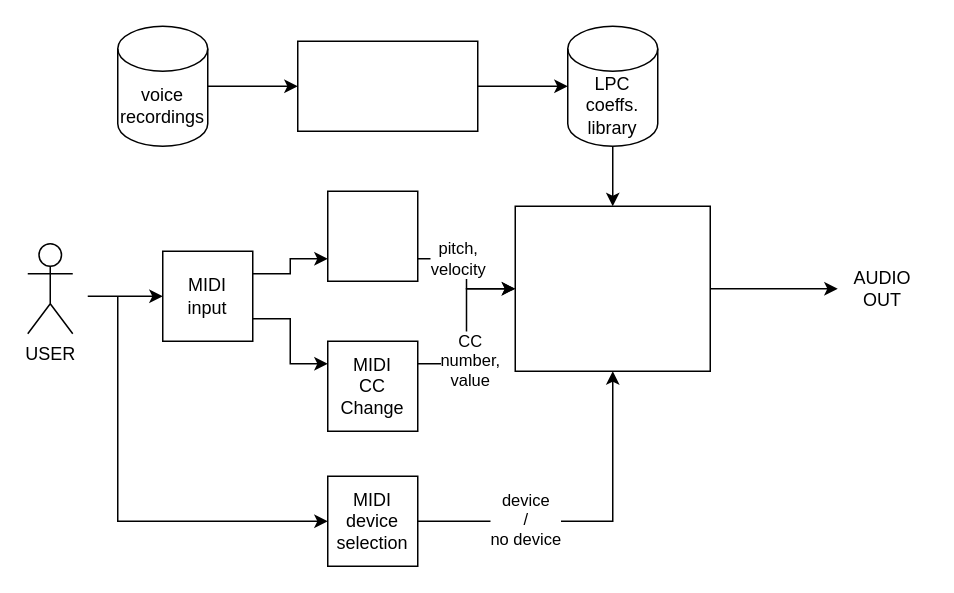
Image size: 954x593. Some labels were removed from this diagram. The centre of each missing label's shape, as x and y in pixels:
LPC coefficients creator: point (387, 85)
MIDI Note: point (372, 235)
SYNTH: point (612, 288)
